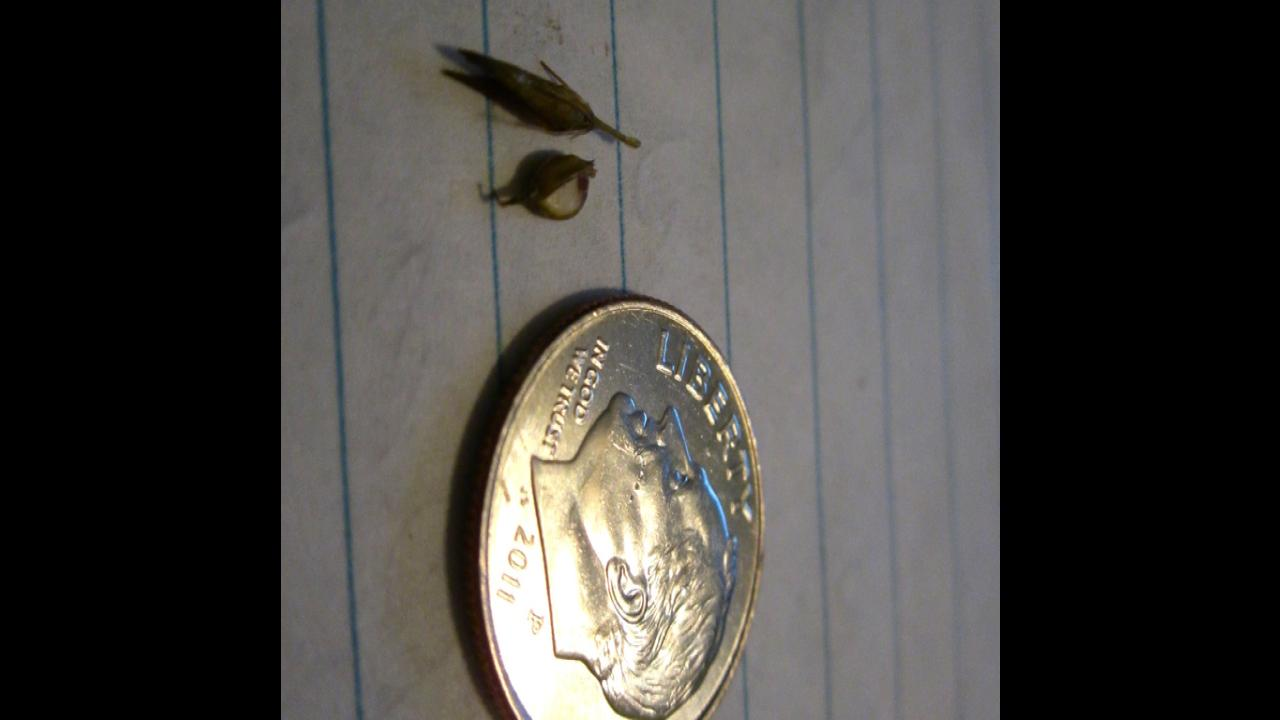coin: (467, 298, 766, 720)
